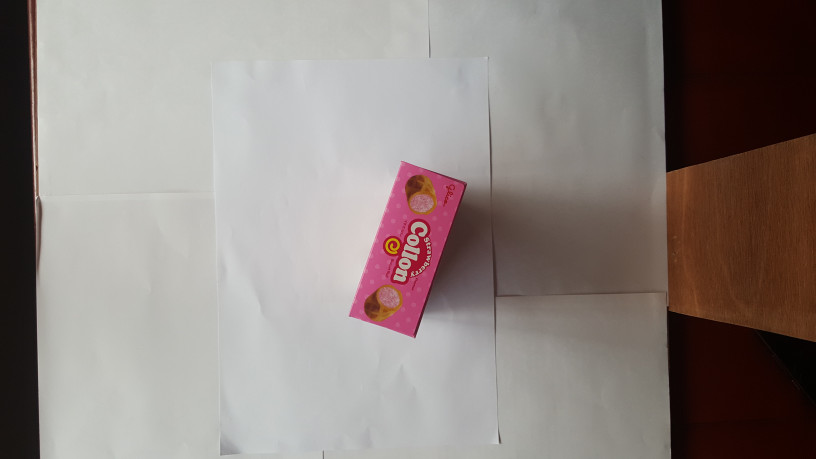collon-strawberry: (345, 159, 467, 342)
